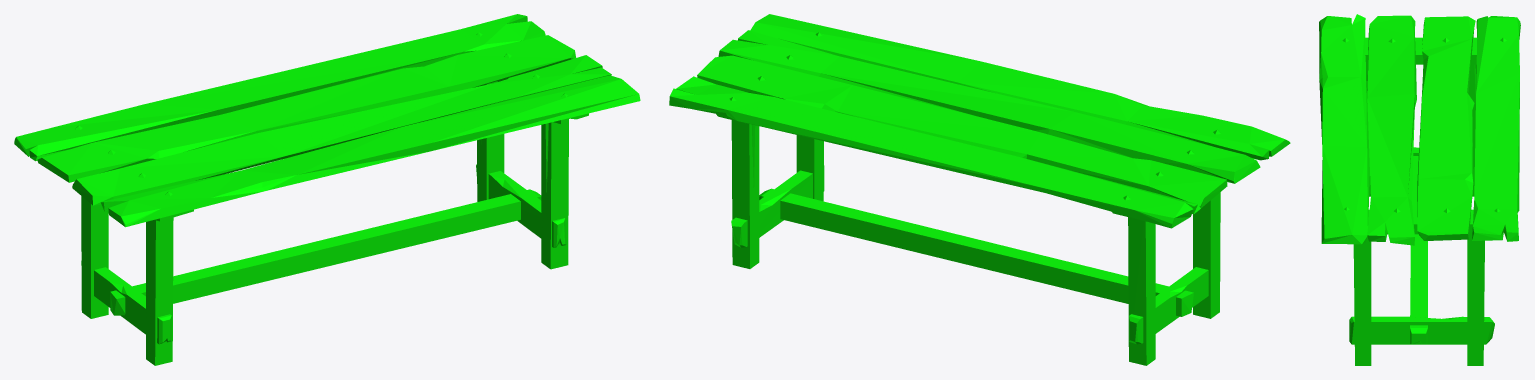
File: SM_Table_Market_A_Short.fbx
3 views of the same model, side by side, from view 1: azimuth 30°, elevation 25°; view 2: azimuth 150°, elevation 25°; view 3: azimuth 270°, elevation 25° (orthographic). The views are drawn at different scales.
Parts seen in each view (by area): view 1: table-market-a-short; view 2: table-market-a-short; view 3: table-market-a-short.
Part boxes in pixels (<box>): table-market-a-short: <box>14,14,640,365</box>; table-market-a-short: <box>669,14,1290,365</box>; table-market-a-short: <box>1319,14,1520,365</box>.
Size of the model in its own units: 2.55 by 0.8323 by 0.9783.
